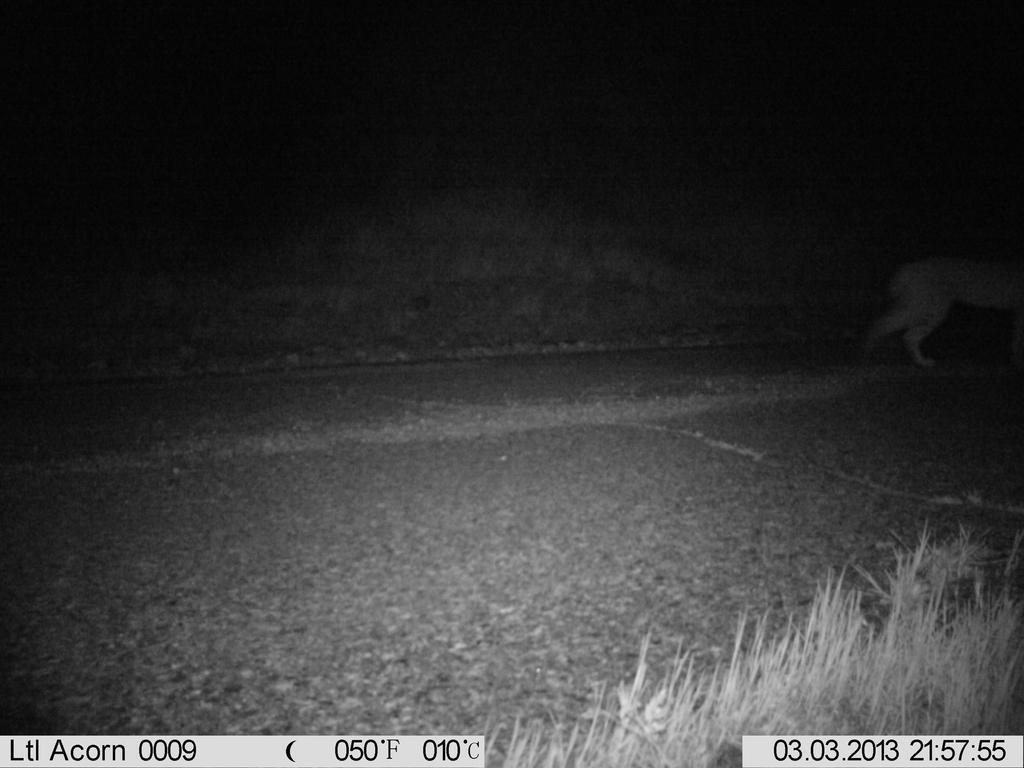bobcat: (855, 241, 1024, 379)
